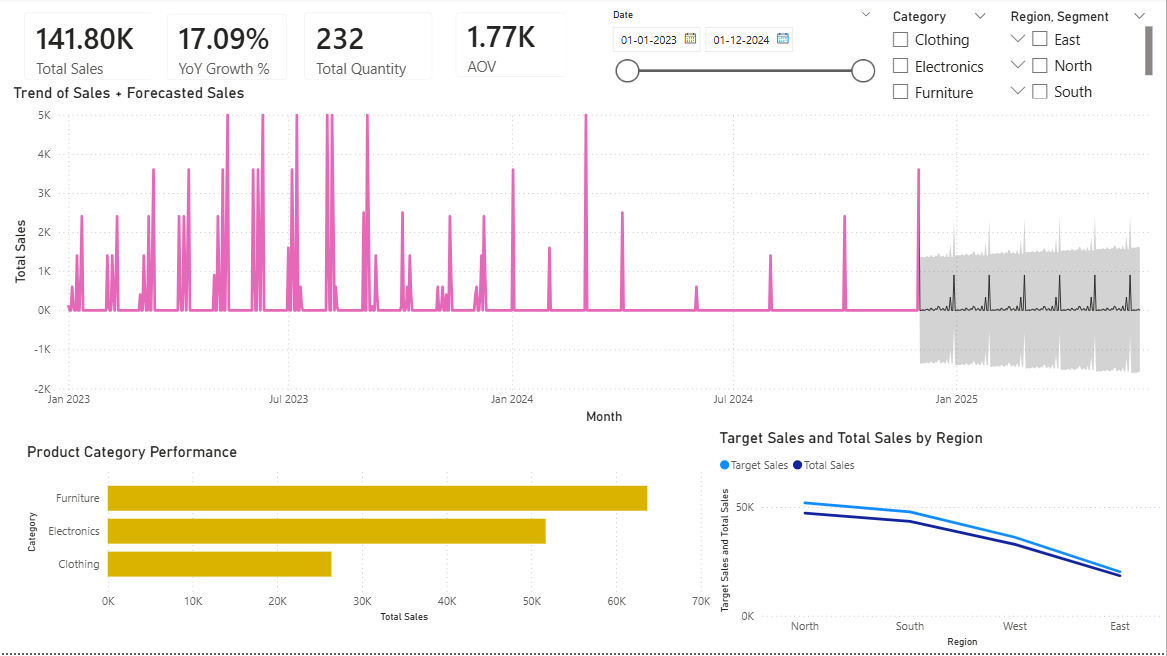

The dashboard page shown, as its layout file describes it:
{"tool":"powerbi","page":{"name":"Dashboard 1","canvas":[1280,720],"ordinal":0},"visuals":[{"type":"cardVisual","fields":{"Data":["sales_project sales.Total Sales"]},"box":[9.6,0,175.6,108.4],"z":0},{"type":"cardVisual","fields":{"Data":["Calendar.YoY Growth %"]},"box":[166,1.4,166,107],"z":1000},{"type":"cardVisual","fields":{"Data":["sales_project sales.Total Quantity"]},"box":[317,0,175.6,108.4],"z":2000},{"type":"cardVisual","fields":{"Data":["sales_project sales.AOV"]},"box":[483,0,156.4,105.7],"z":3000},{"type":"lineChart","title":"Trend of Sales + Forecasted Sales","fields":{"Y":["sales_project sales.Total Sales"],"Category":["Calendar.Date"]},"box":[9.7,94.4,1270.8,379.2],"z":4000},{"type":"clusteredBarChart","title":"Product Category Performance","fields":{"Category":["sales_project products.Category"],"Y":["sales_project sales.Total Sales"]},"box":[25,488.9,759.7,202.8],"z":5000},{"type":"lineChart","fields":{"Category":["sales_project customers.Region"],"Y":["sales_project sales.Target Sales","sales_project sales.Total Sales"]},"box":[784.7,473.6,495.8,245.8],"z":6000},{"type":"slicer","fields":{"Values":["sales_project customers.Region","sales_project customers.Segment"]},"box":[1095.8,8.3,173.6,108.3],"z":6001},{"type":"slicer","fields":{"Values":["sales_project products.Category"]},"box":[968.1,8.3,127.8,116.7],"z":6002},{"type":"slicer","fields":{"Values":["Calendar.Date"]},"box":[659.7,8.3,308.3,104.2],"z":6003}]}

Visuals, with their boxes in screenshot pixels (x1, y1, x2, y2), scaled from the page's 1280x720 canvas onto the 1167x656 screenshot:
cardVisual - sales_project sales.Total Sales: 9 0 169 99
cardVisual - Calendar.YoY Growth %: 151 1 303 99
cardVisual - sales_project sales.Total Quantity: 289 0 449 99
cardVisual - sales_project sales.AOV: 440 0 583 96
"Trend of Sales + Forecasted Sales" lineChart: 9 86 1166 432
"Product Category Performance" clusteredBarChart: 23 445 715 630
lineChart - sales_project customers.Region x sales_project sales.Target Sales: 715 432 1166 655
slicer - sales_project customers.Region x sales_project customers.Segment: 999 8 1157 106
slicer - sales_project products.Category: 883 8 999 114
slicer - Calendar.Date: 601 8 883 102
